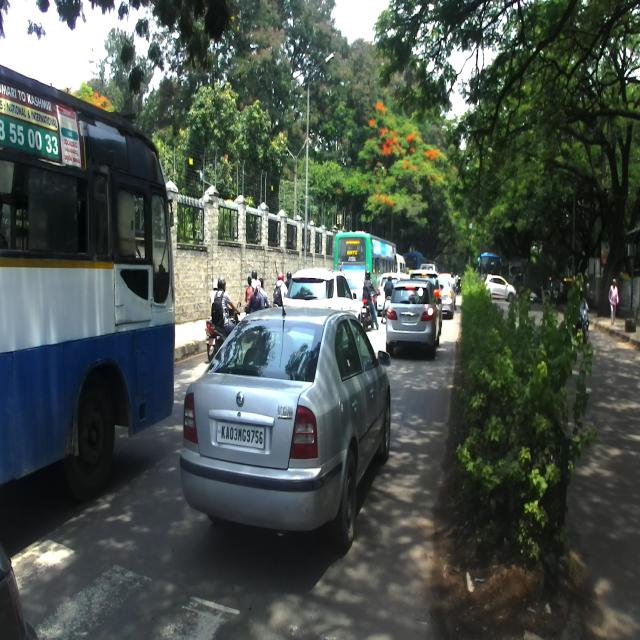bus ahead at: (1, 68, 178, 503)
car ahead at: (182, 284, 393, 558), (384, 275, 440, 359)
